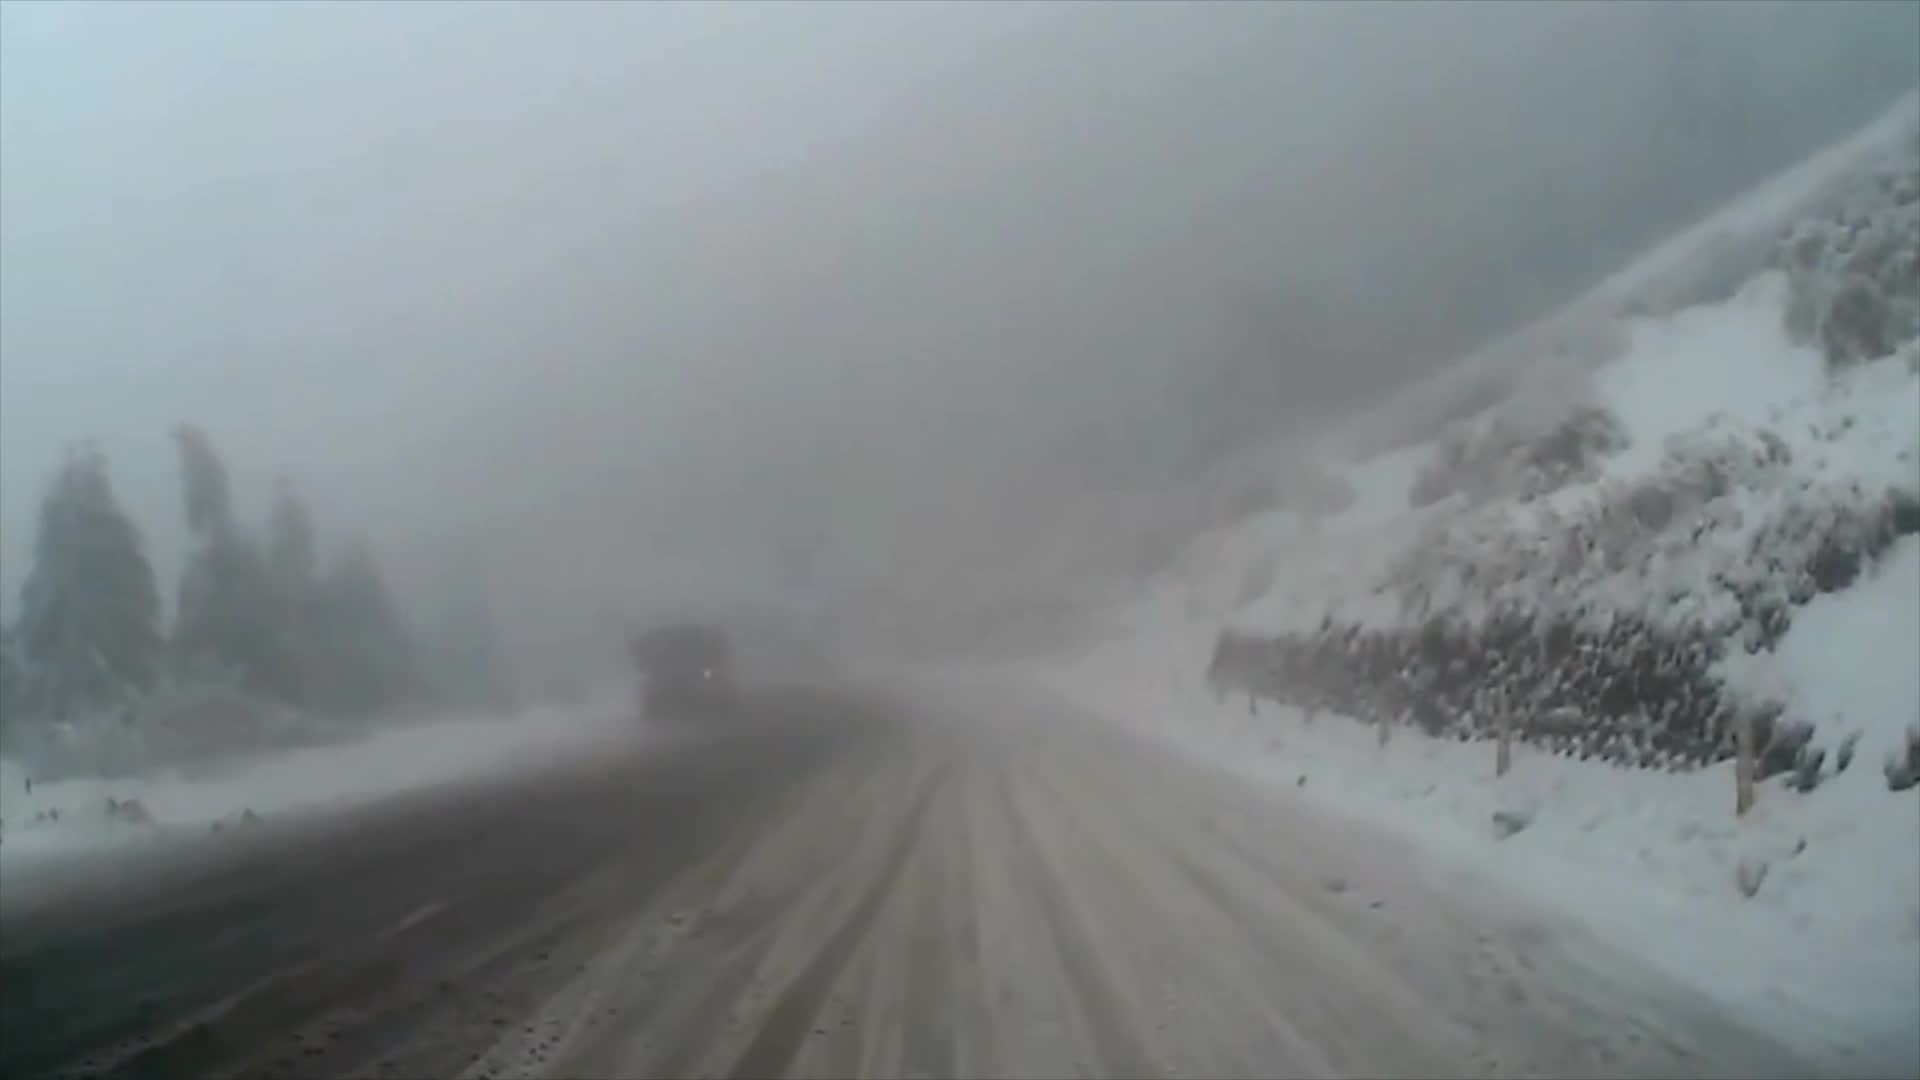vehicle: (626, 625, 736, 723)
